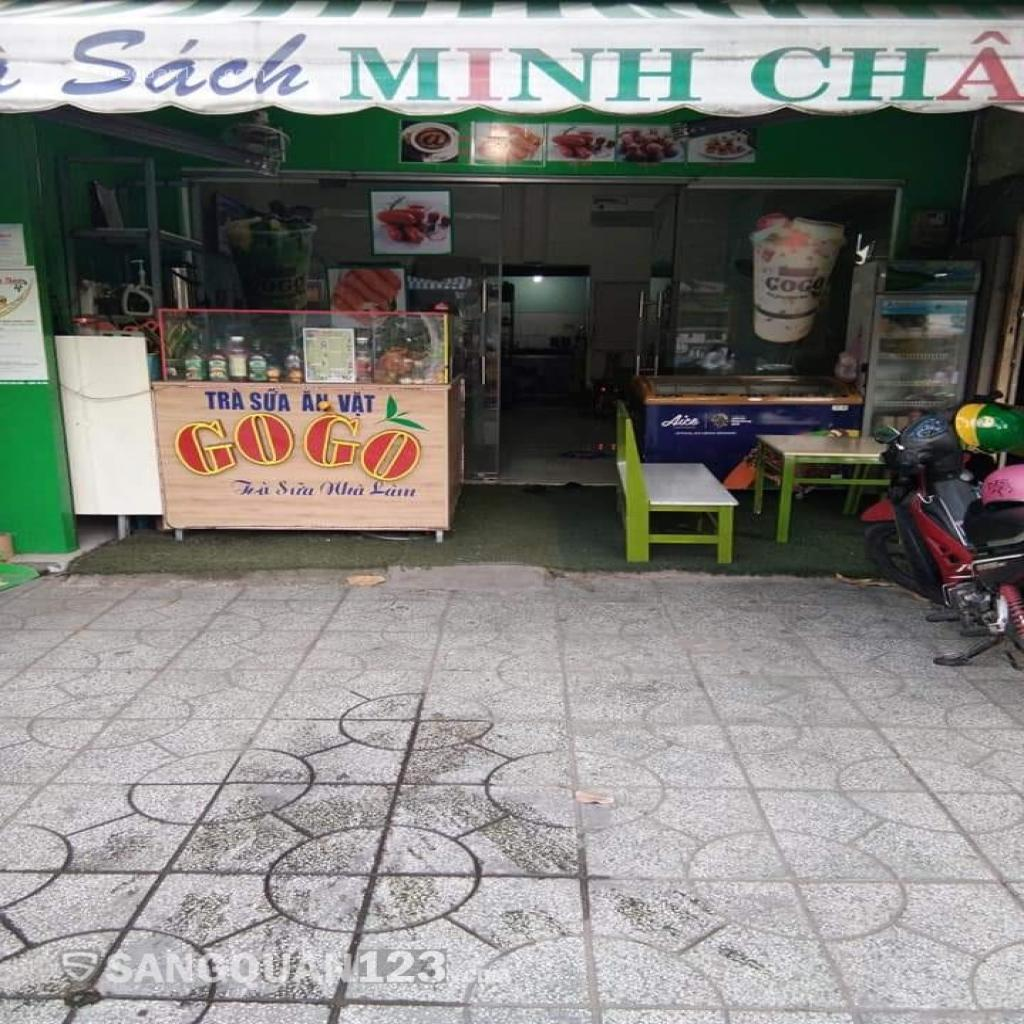text: (336, 45, 706, 103), (751, 26, 1024, 104), (60, 29, 313, 98), (300, 406, 437, 488), (166, 410, 302, 480), (764, 276, 826, 294), (336, 391, 377, 418), (249, 388, 293, 413), (205, 388, 246, 411), (370, 480, 421, 498), (414, 127, 452, 151), (320, 481, 370, 497), (274, 480, 318, 497), (300, 390, 331, 413), (230, 479, 256, 497), (257, 481, 273, 497)
